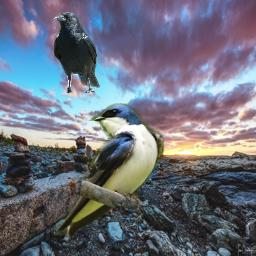Crow: (54, 12, 100, 93)
Swallow: (54, 103, 165, 238)
